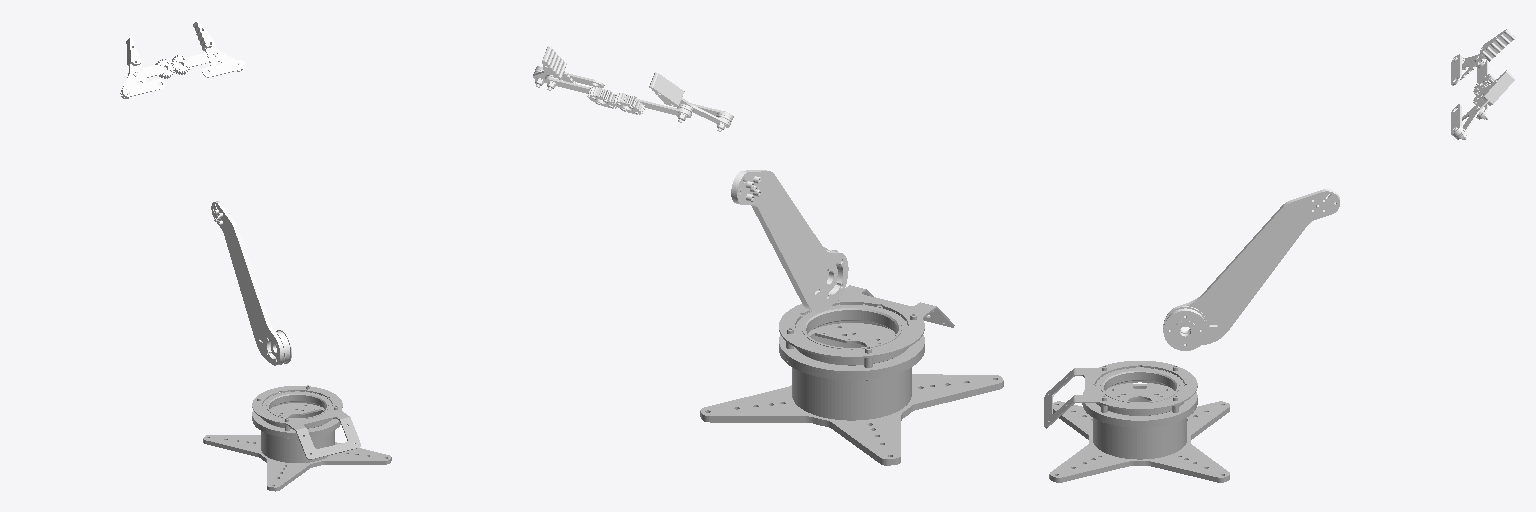
URDF robot description (physics):
<?xml version="1.0"?>
<robot name="physics">

  <material name="gray">
    <color rgba="0.8 0.8 0.8 1"/>
  </material>
 
  <material name="white">
    <color rgba="1 1 1 1"/>
  </material>

  <link name="base_link">
    <visual>
      <geometry>
        <mesh filename="package://roarm/meshes/base.stl"/>
      </geometry>
      <origin rpy="0 0 0" xyz="0 0 0"/>
      <material name="gray"/>
    </visual>
  </link>
  
  <link name="l1_link">
    <visual>
      <geometry>
        <mesh filename="package://roarm/meshes/L1.stl"/>
      </geometry>
      <origin rpy="0 0 0" xyz="0 0 -0.062"/>
      <material name="white"/>
    </visual>
  </link>

  <link name="l2_link">
    <visual>
      <geometry>
        <mesh filename="package://roarm/meshes/L2.stl"/>
      </geometry>
      <origin rpy="0 0 0" xyz="0 -0.041051 -0.11574"/>
      <material name="white"/>
    </visual>
  </link>

  <link name="l3_link">
    <visual>
      <geometry>
        <mesh filename="package://roarm/meshes/L3.stl"/>
      </geometry>
      <origin rpy="0 0 0" xyz="0 -0.160452 -0.235141"/>
      <material name="white"/>
    </visual>
  </link>
 
  <link name="l4_link">
    <visual>
      <geometry>
        <mesh filename="package://roarm/meshes/L4.stl"/>
      </geometry>
      <origin rpy="0 0 0" xyz="0 -0.250907 -0.325596"/>
      <material name="white"/>
    </visual>
  </link>
  
  <link name="l5_1_A_link">
    <visual>
      <geometry>
        <mesh filename="package://roarm/meshes/L5_1_A.stl"/>
      </geometry>
      <origin xyz="-0.003489 -0.311007 -0.358744" rpy="0 0 0"/>
      <material name="white"/>
    </visual>
  </link>
  
  <link name="l5_1_B_link">
    <visual>
      <geometry>
        <mesh filename="package://roarm/meshes/L5_1_B.stl"/>
      </geometry>
      <origin xyz="-0.024489 -0.311007 -0.358744" rpy="0 0 0"/>
      <material name="white"/>
    </visual>
  </link>
  
  <link name="l5_2_A_link">
    <visual>
      <geometry>
        <mesh filename="package://roarm/meshes/L5_2_A.stl"/>
      </geometry>
      <origin xyz="0.017511 -0.285551 -0.362001" rpy="0 0 0"/>
      <material name="white"/>
    </visual>
  </link>

  <link name="l5_2_B_link">
    <visual>
      <geometry>
        <mesh filename="package://roarm/meshes/L5_2_B.stl"/>
      </geometry>
      <origin xyz="-0.045489 -0.285551 -0.362001" rpy="0 0 0"/>
      <material name="white"/>
    </visual>
  </link>

  <link name="l5_3_A_link">
    <visual>
      <geometry>
        <mesh filename="package://roarm/meshes/L5_3_A.stl"/>
      </geometry>
      <origin xyz="0.039711 -0.304219 -0.347532" rpy="0 0 0"/>
      <material name="white"/>
    </visual>
  </link>

  <link name="l5_3_B_link">
    <visual>
      <geometry>
        <mesh filename="package://roarm/meshes/L5_3_B.stl"/>
      </geometry>
      <origin xyz="-0.067689 -0.304219 -0.347532" rpy="0 0 0"/>
      <material name="white"/>
    </visual>
  </link>


  

  
  
  <joint name="base_to_L1" type="revolute">
    <axis xyz="0 0 1"/>
    <limit effort="1000.0" lower="-3.14" upper="3.14" velocity="0.5"/>
    <parent link="base_link"/>
    <child link="l1_link"/>
    <origin xyz="0 0 0.062"/>
  </joint>

  <joint name="L1_to_L2" type="revolute">
    <axis xyz="1 0 0"/>
    <limit effort="1000.0" lower="-1.0467" upper="1.0467" velocity="0.5"/>
    <parent link="l1_link"/>
    <child link="l2_link"/>
    <origin xyz="0 0.041051 0.0534"/>
  </joint>

  <joint name="L2_to_L3" type="revolute">
    <axis xyz="1 0 0"/>
    <limit effort="1000.0" lower="-2.7" upper="2.7" velocity="0.5"/>
    <parent link="l2_link"/>
    <child link="l3_link"/>
    <origin xyz="0 0.119401 0.119401"/>
  </joint>

  <joint name="L3_to_L4" type="revolute">
    <axis xyz="1 0 0"/>
    <limit effort="1000.0" lower="-2.1" upper="2.1" velocity="0.5"/>
    <parent link="l3_link"/>
    <child link="l4_link"/>
    <origin xyz="0 0.090485 0.090455"/>
  </joint>
  
  <joint name="L4_to_L5_1_A" type="revolute">
    <axis xyz="0 0 1"/>
    <limit effort="1000.0" lower="-1.57" upper="0" velocity="0.5"/>
    <parent link="l4_link"/>
    <child link="l5_1_A_link"/>
    <origin xyz="0.003489 0.0601 0.033148" rpy="0.785 0 0"/>
  </joint>

  <joint name="L4_to_L5_1_B" type="revolute">
    <axis xyz="0 0 1"/>
    <limit effort="1000.0" lower="-1.57" upper="1.57" velocity="0.5"/>
    <parent link="l4_link"/>
    <child link="l5_1_B_link"/>
    <origin xyz="0.024489 0.0601 0.033148" rpy="0.785 0 0"/>
    <mimic joint="L4_to_L5_1_A" multiplier="-1" offset="0"/>
  </joint>

  <joint name="L4_to_L5_2_A" type="revolute">
    <axis xyz="0 0 1"/>
    <limit effort="1000.0" lower="-1.57" upper="1.57" velocity="0.5"/>
    <parent link="l4_link"/>
    <child link="l5_2_A_link"/>
    <origin xyz="-0.017511 0.028905 0.034644" rpy="0.785 0 0"/>
    <mimic joint="L4_to_L5_1_A" multiplier="1" offset="0"/>
  </joint>

  <joint name="L4_to_L5_2_B" type="revolute">
    <axis xyz="0 0 1"/>
    <limit effort="1000.0" lower="-1.57" upper="1.57" velocity="0.5"/>
    <parent link="l4_link"/>
    <child link="l5_2_B_link"/>
    <origin xyz="0.045489 0.028905 0.034644" rpy="0.785 0 0"/>
    <mimic joint="L4_to_L5_1_A" multiplier="-1" offset="0"/>
  </joint>

  <joint name="L5_1_A_to_L5_3_A" type="revolute">
    <axis xyz="0 0 1"/>
    <limit effort="1000.0" lower="-1.57" upper="0" velocity="0.5"/>
    <parent link="l5_1_A_link"/>
    <child link="l5_3_A_link"/>
    <origin xyz="-0.0432 0 -0.008" rpy="0 0 0"/>
    <mimic joint="L4_to_L5_1_A" multiplier="-1" offset="0"/>
  </joint>
  
  <joint name="L5_1_B_to_L5_3_B" type="revolute">
    <axis xyz="0 0 1"/>
    <limit effort="1000.0" lower="-1.57" upper="0" velocity="0.5"/>
    <parent link="l5_1_B_link"/>
    <child link="l5_3_B_link"/>
    <origin xyz="0.0432 0 -0.008" rpy="0 0 0"/>
    <mimic joint="L4_to_L5_1_B" multiplier="-1" offset="0"/>
  </joint>
  
</robot>

--- Render facts (derived) ---
Views: 3 orthographic renders of the robot side by side, from view 1: azimuth 30°, elevation 25°; view 2: azimuth 150°, elevation 25°; view 3: azimuth 270°, elevation 25°.
Robot: physics — 11 links, 10 joints (10 revolute); root link base_link; default pose: every joint at zero.
Links seen in each view (by area): view 1: base_link, l2_link, l5_3_B_link, l5_3_A_link; view 2: base_link, l2_link, l5_3_A_link, l5_1_A_link, l5_1_B_link, l5_3_B_link; view 3: base_link, l2_link, l5_3_B_link, l5_3_A_link.
Link boxes in pixels (left/top/right/bottom): base_link: left=203, top=385, right=391, bottom=491; l2_link: left=211, top=201, right=291, bottom=365; l5_3_B_link: left=193, top=21, right=239, bottom=71; l5_3_A_link: left=120, top=37, right=146, bottom=98; base_link: left=700, top=285, right=1003, bottom=465; l2_link: left=731, top=170, right=848, bottom=311; l5_3_A_link: left=649, top=72, right=730, bottom=127; l5_1_A_link: left=613, top=93, right=693, bottom=122; l5_1_B_link: left=545, top=75, right=616, bottom=108; l5_3_B_link: left=533, top=46, right=575, bottom=83; base_link: left=1044, top=361, right=1229, bottom=482; l2_link: left=1163, top=189, right=1339, bottom=350; l5_3_B_link: left=1457, top=70, right=1514, bottom=139; l5_3_A_link: left=1460, top=29, right=1515, bottom=79.
Bounding box of the posed robot: 0.1763 × 0.4248 × 0.3991 m (x, y, z).
8 mesh visuals loaded from 11 distinct referenced files (8 binary STL); not drawn: 3 (reference not matched to a file when rendering).